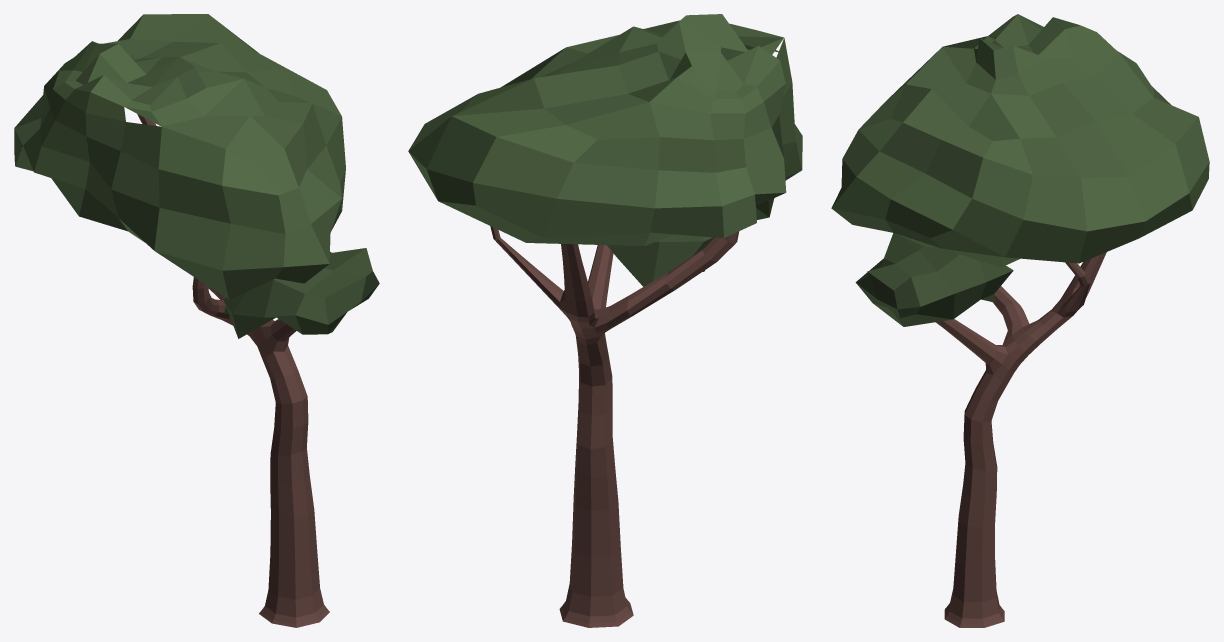
Rendered from CommonTree_4.glb.
3 views of the same model, side by side, from view 1: azimuth 30°, elevation 25°; view 2: azimuth 150°, elevation 25°; view 3: azimuth 270°, elevation 25° (orthographic). The views are drawn at different scales.
Visible parts, largest first — view 1: CommonTree_4; view 2: CommonTree_4; view 3: CommonTree_4.
Boxes of the visible parts, x1,y1,x2,y2 form: CommonTree_4: (14,14,379,627); CommonTree_4: (408,14,802,627); CommonTree_4: (831,14,1209,627).
Size of the model in its own units: 1.58 by 2.78 by 1.8.
